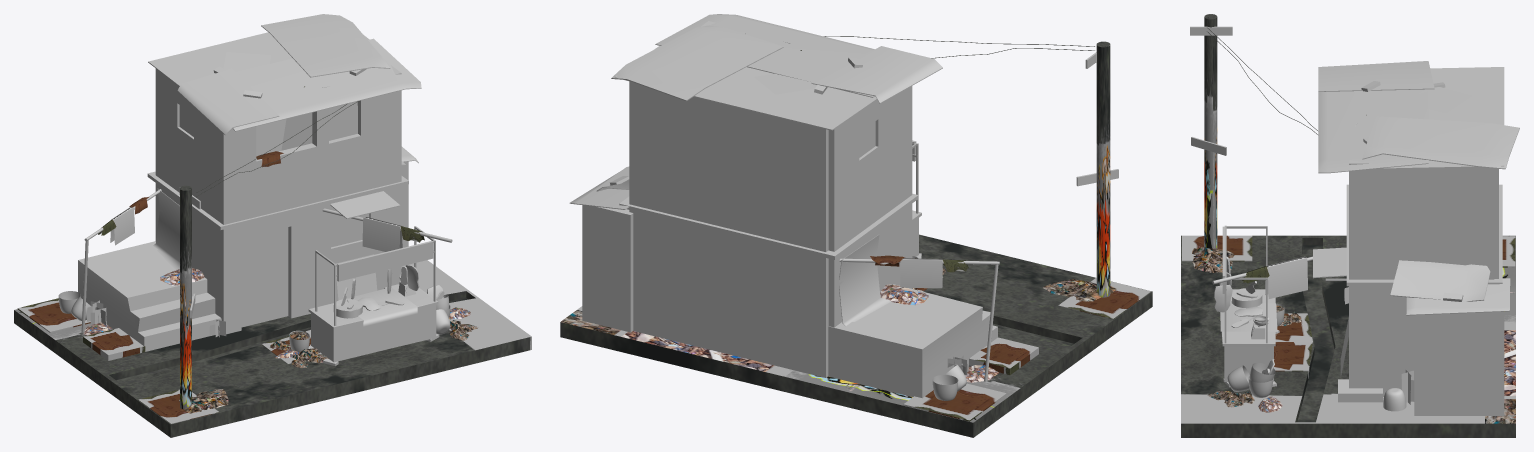
File: Escenario.fbx
3 views of the same model, side by side, from view 1: azimuth 30°, elevation 25°; view 2: azimuth 150°, elevation 25°; view 3: azimuth 270°, elevation 25° (orthographic). The views are drawn at different scales.
Visible parts, largest first — view 1: pCube97; view 2: pCube97; view 3: pCube97.
Part boxes in pixels (x1,y1,x2,y2): pCube97: (14,14,531,437); pCube97: (560,14,1152,437); pCube97: (1181,14,1519,437).
Size of the model in its own units: 18.25 by 11.54 by 13.89.
